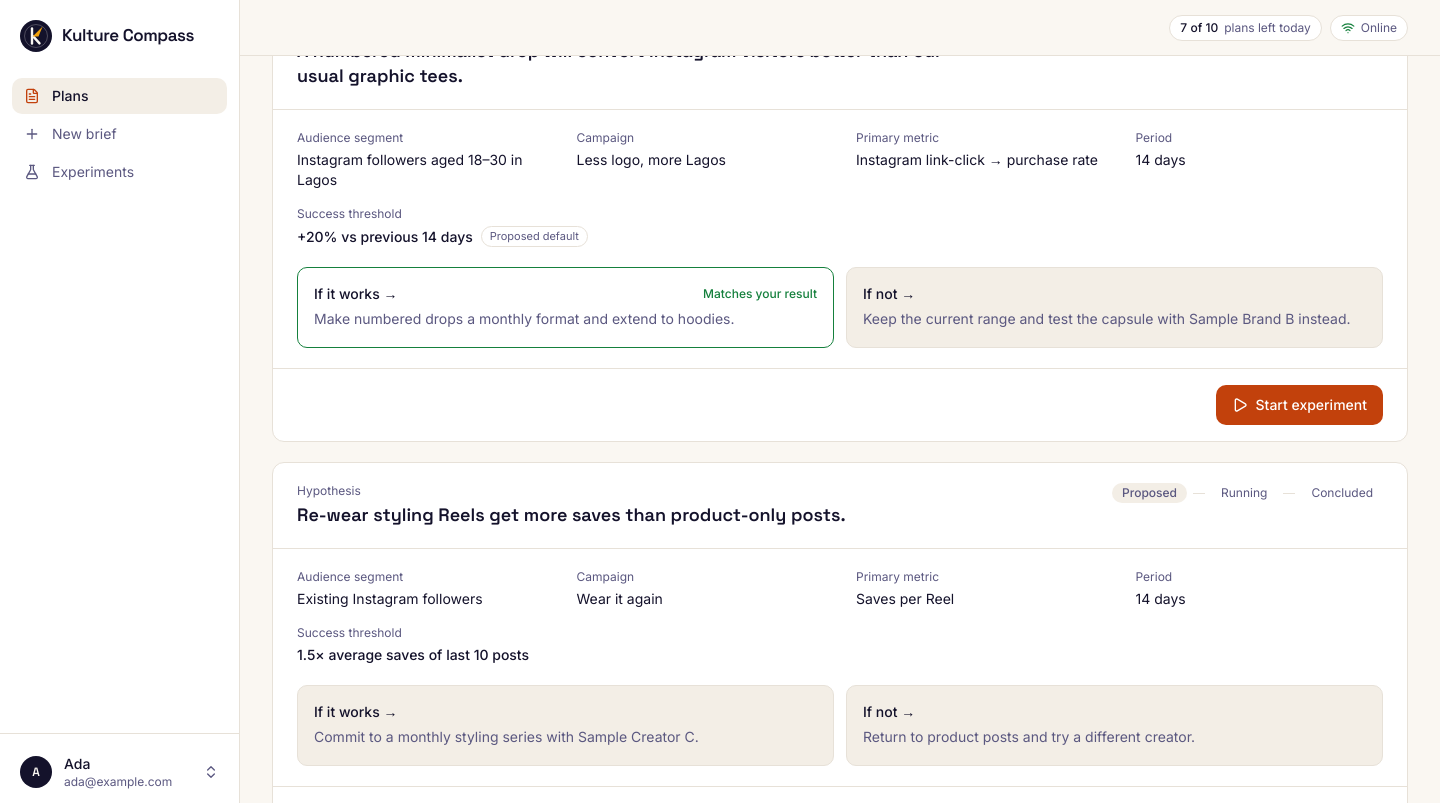
experiments on the plan › asks to reload when the experiment changed elsewhere (412)
(page scrolled)
Step 1. Click the button "Start experiment" below "Instagram link-click → purchase rate" → (1299, 405), box [1216,385,1383,425]
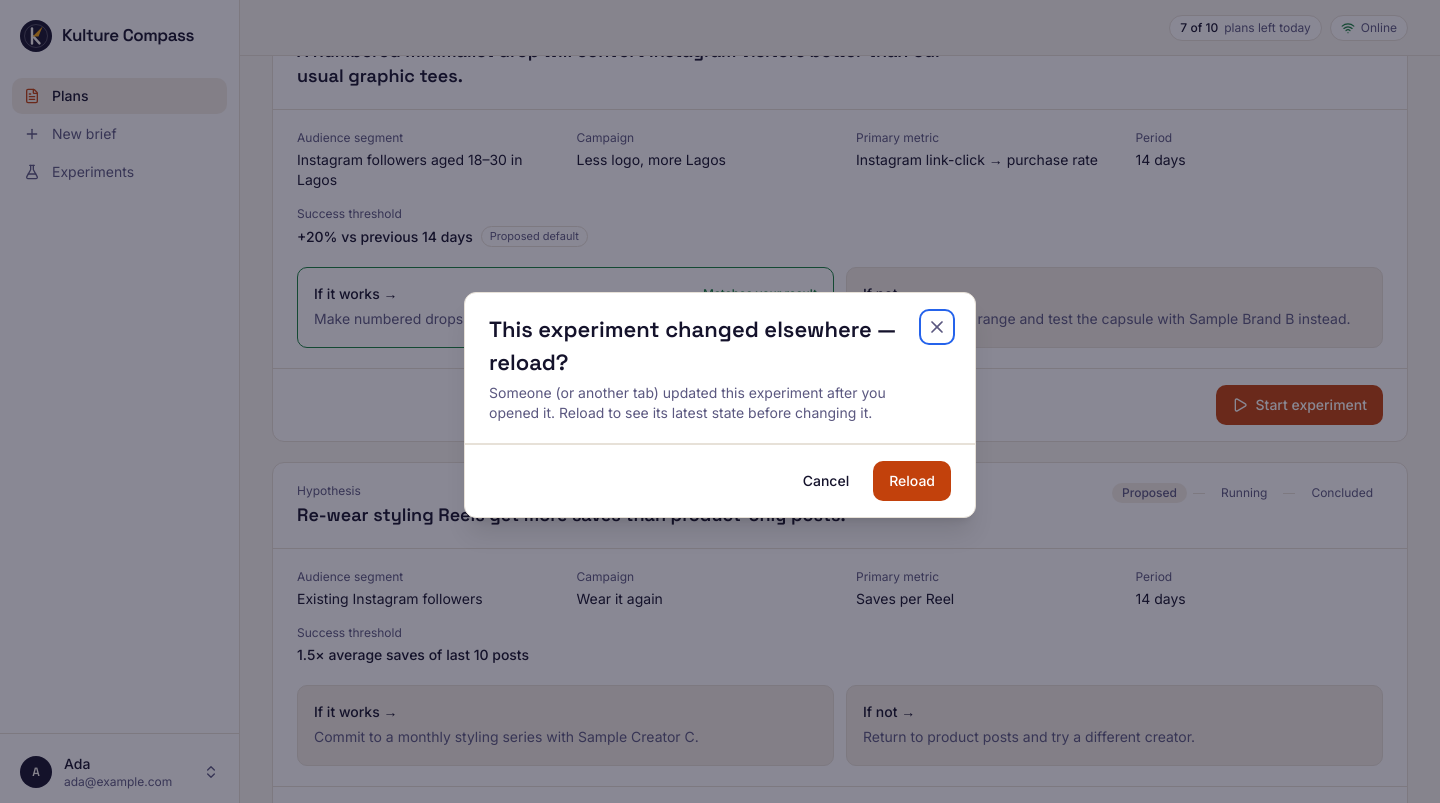
Step 2. Click the button "Reload" → (912, 481), box [873,461,951,501]
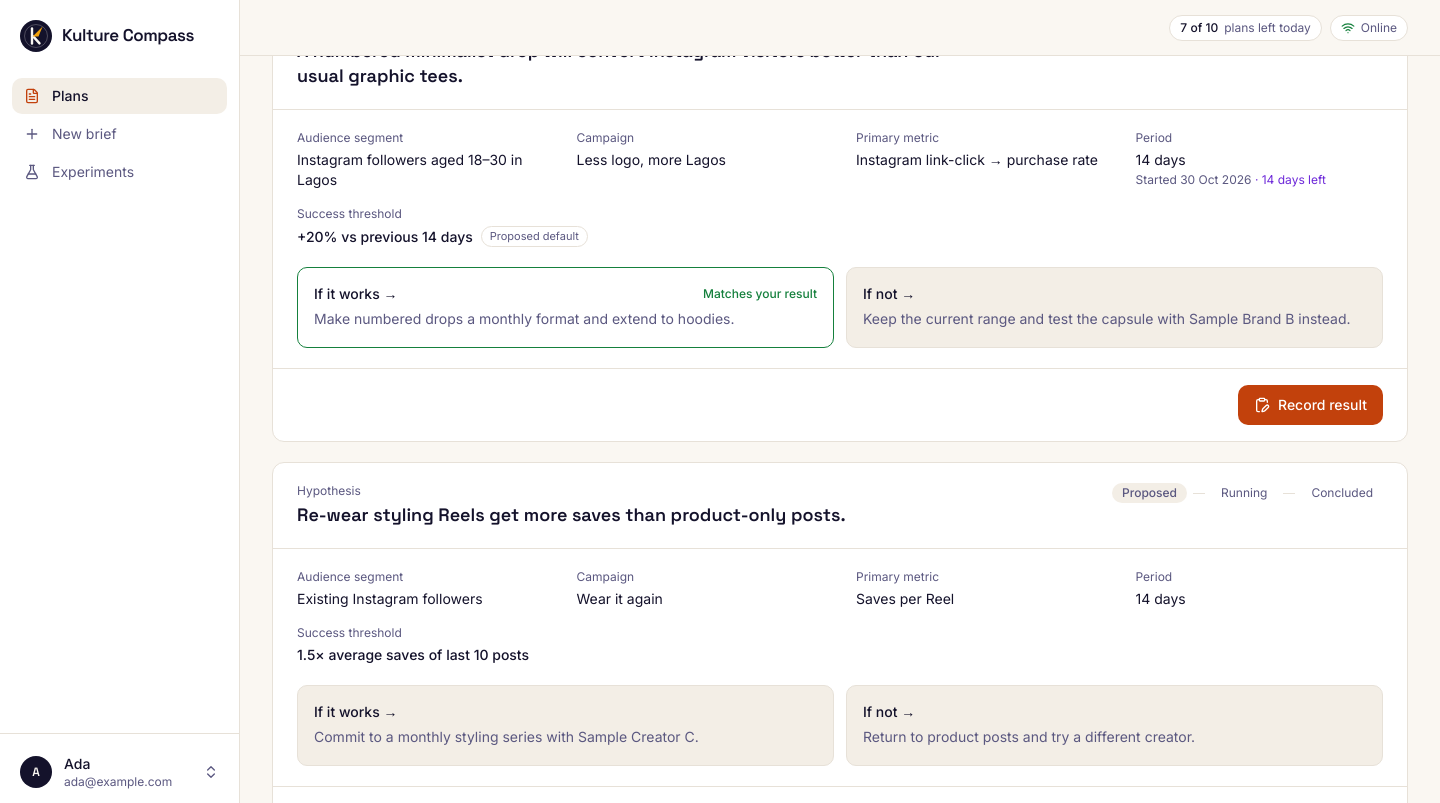
Now the button "Record result" is shown, box [1238,385,1383,425]
